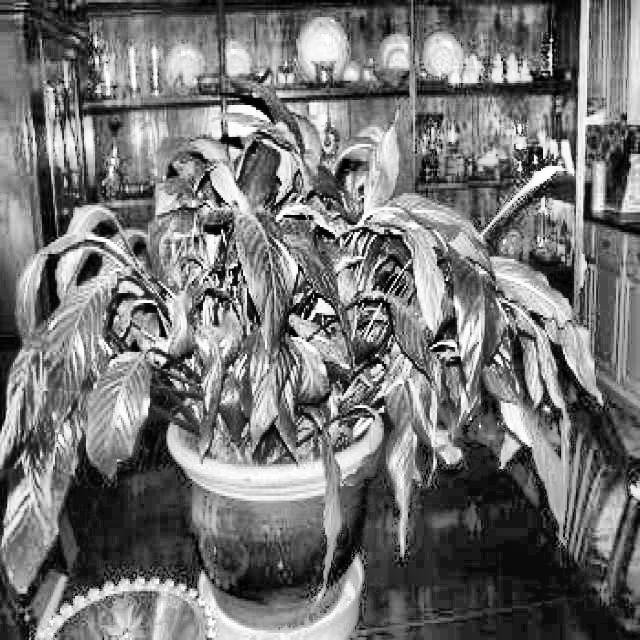plants: (8, 120, 610, 610)
